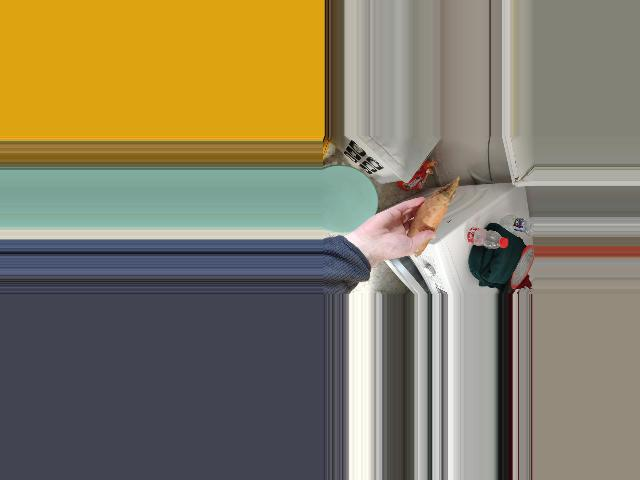sweet_potato: (409, 196, 447, 244)
